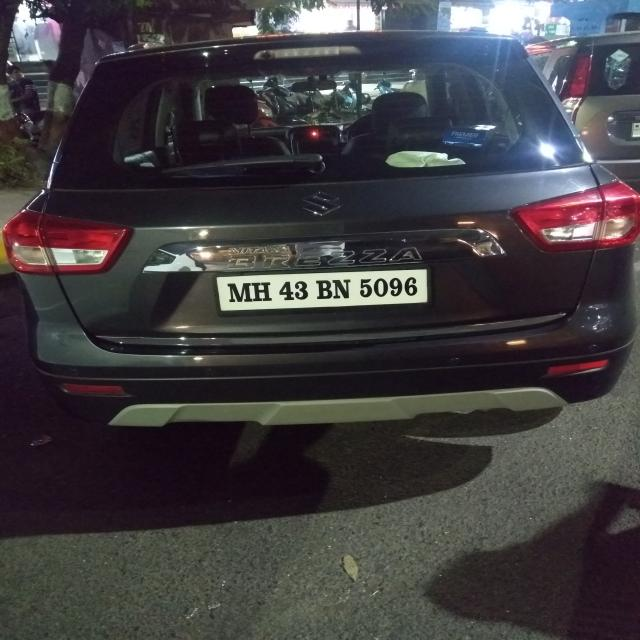Number-Plate: (216, 270, 431, 304)
